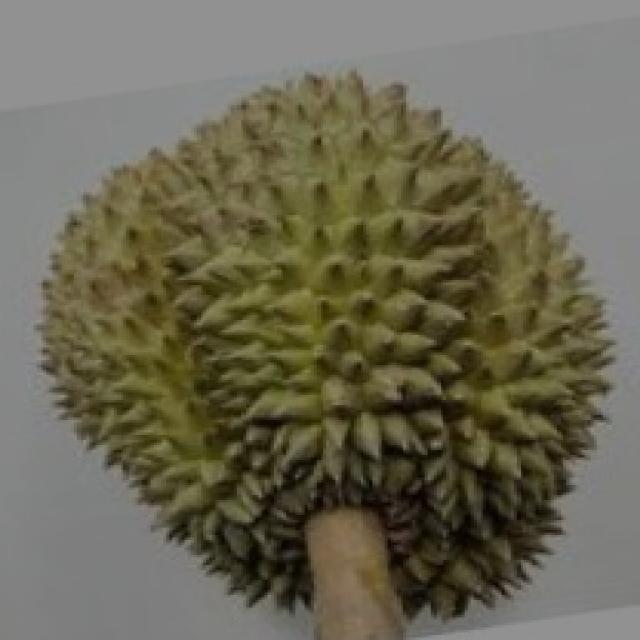fruit: (3, 245, 394, 635), (323, 265, 640, 640)
